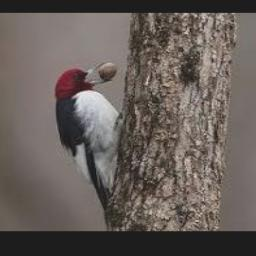Woodpecker: (55, 61, 122, 228)
